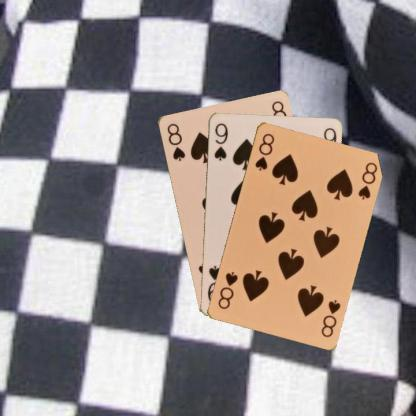8s: (252, 130, 276, 172), (318, 296, 342, 338), (164, 120, 186, 162)
9s: (211, 120, 229, 162)
